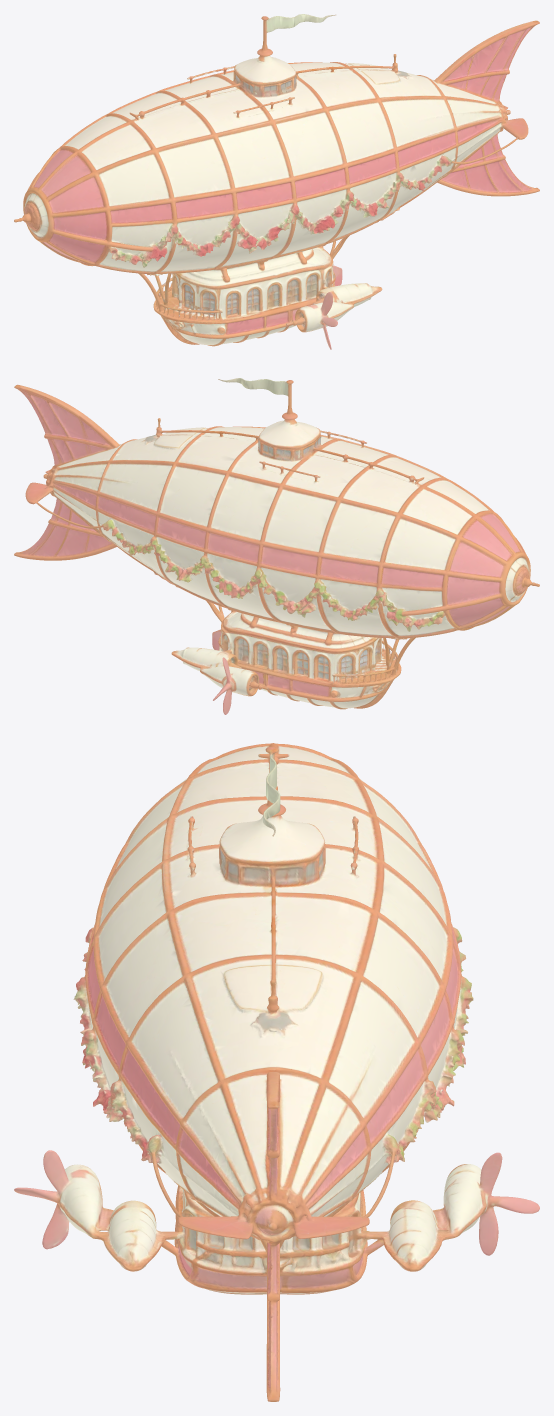
File: rose-airship.glb
3 views of the same model, one above another, from view 1: azimuth 30°, elevation 25°; view 2: azimuth 150°, elevation 25°; view 3: azimuth 270°, elevation 25° (orthographic). The views are drawn at different scales.
Size of the model in its own units: 1.9 by 1.08 by 0.9436.
Materials: 1 (1 with a texture image).
